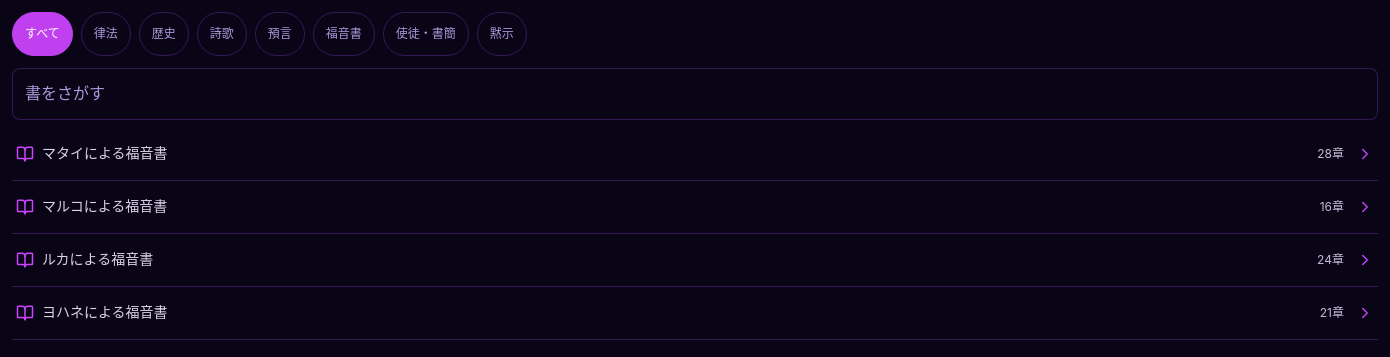
章を選ぶところ › すでに足した章は押せない
Type "マルコ" into the search field with placeholder "書をさがす" at (695, 94), box [12, 68, 1378, 120]
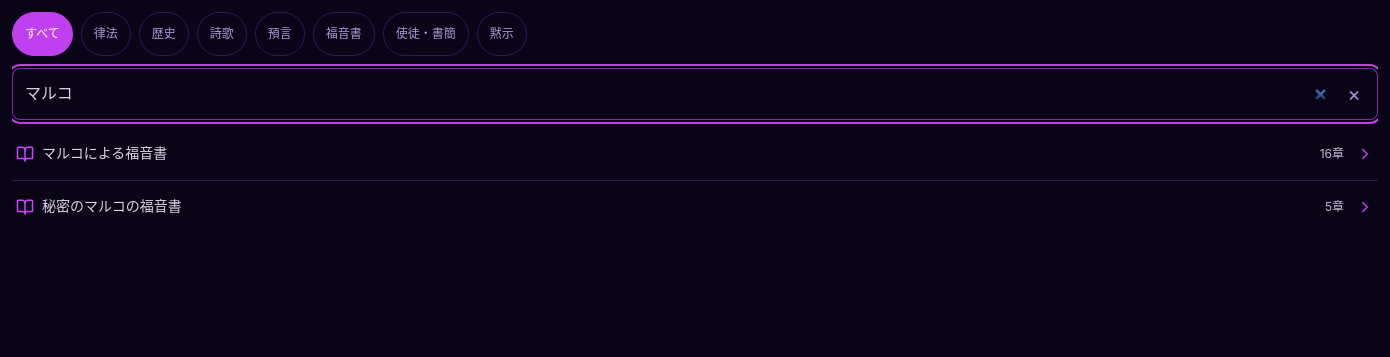
Click the button "マルコによる福音書" at (105, 153), box [16, 132, 1308, 176]
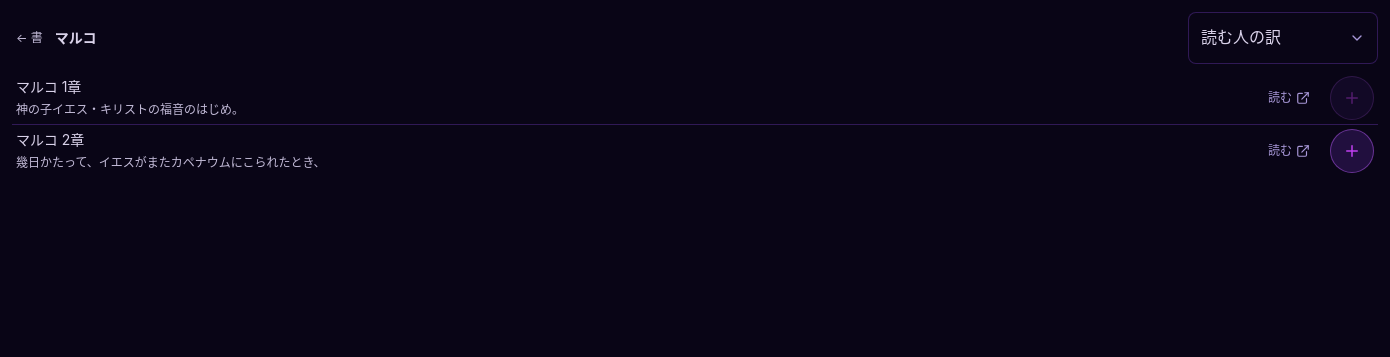
Check: the button named "マルコ 1章は追加ずみ" is disabled, box [1330, 76, 1374, 120]
Check: the button named "マルコ 2章を足す" is enabled, box [1330, 129, 1374, 173]
